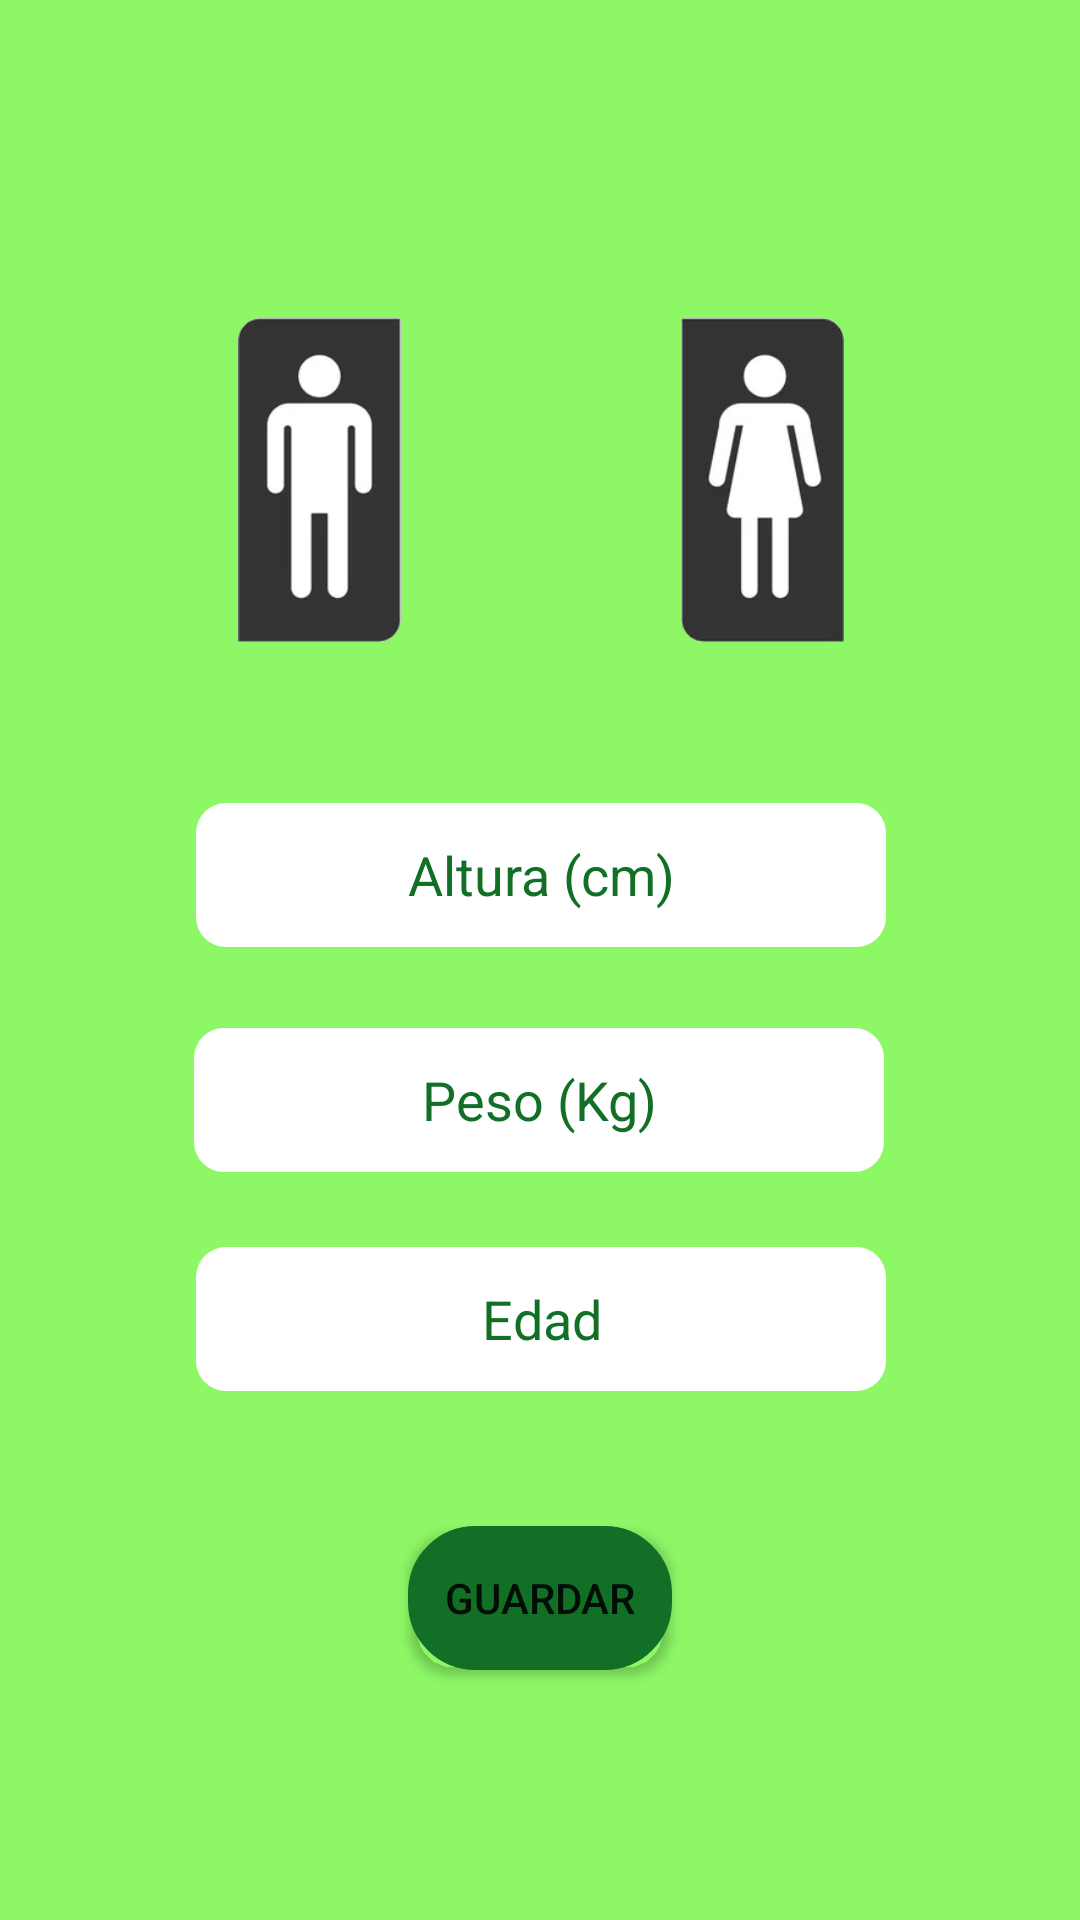

Named icons in this screenshot (1080×1920) and their bounding boxes, (x1, y1, x2, y2):
chica: (681, 318, 844, 642)
chico: (238, 318, 401, 642)
